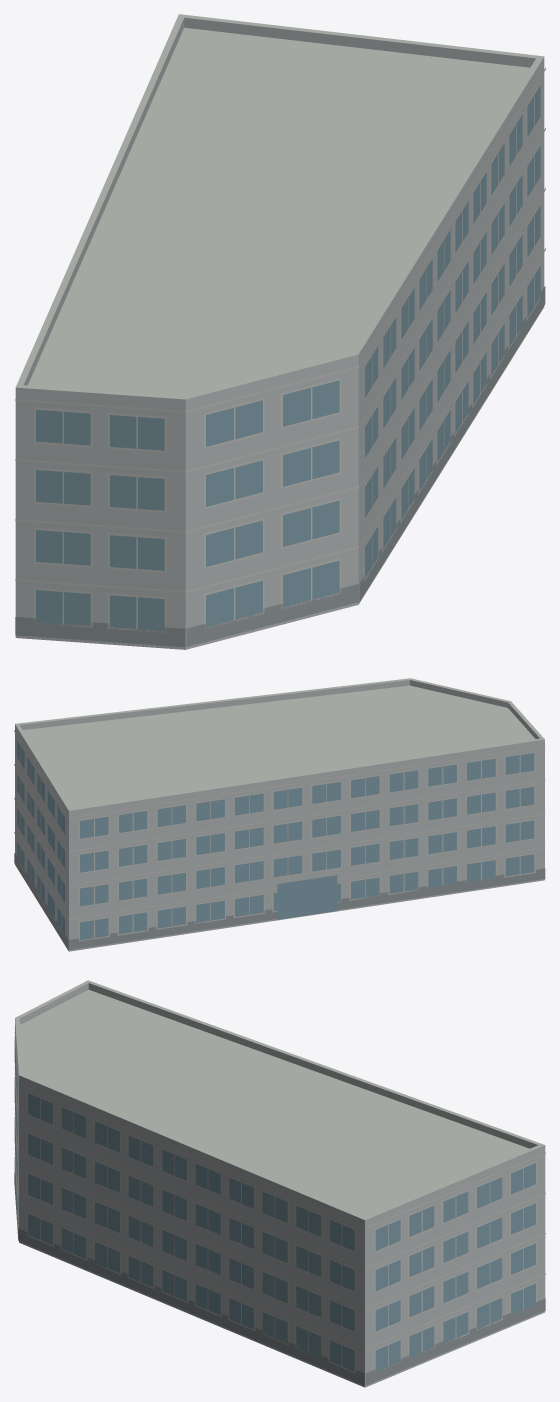
The model's file is public-8a7b5537-382e-40da-81af-f78972ce1b8a.glb.
The picture shows the model from 3 angles, top to bottom: view 1: azimuth 30°, elevation 25°; view 2: azimuth 150°, elevation 25°; view 3: azimuth 270°, elevation 25°; orthographic projection. The views are drawn at different scales.
Visible parts, largest first — view 1: public-8a7b5537-382e-40da-81af-f78972ce1b8a; view 2: public-8a7b5537-382e-40da-81af-f78972ce1b8a; view 3: public-8a7b5537-382e-40da-81af-f78972ce1b8a.
Part boxes in pixels (x1,y1,x2,y2): public-8a7b5537-382e-40da-81af-f78972ce1b8a: (15,14,545,649); public-8a7b5537-382e-40da-81af-f78972ce1b8a: (14,678,545,951); public-8a7b5537-382e-40da-81af-f78972ce1b8a: (14,980,545,1387).
Bounding box in the file's own units: 37.63 × 12.2 × 35.14.
